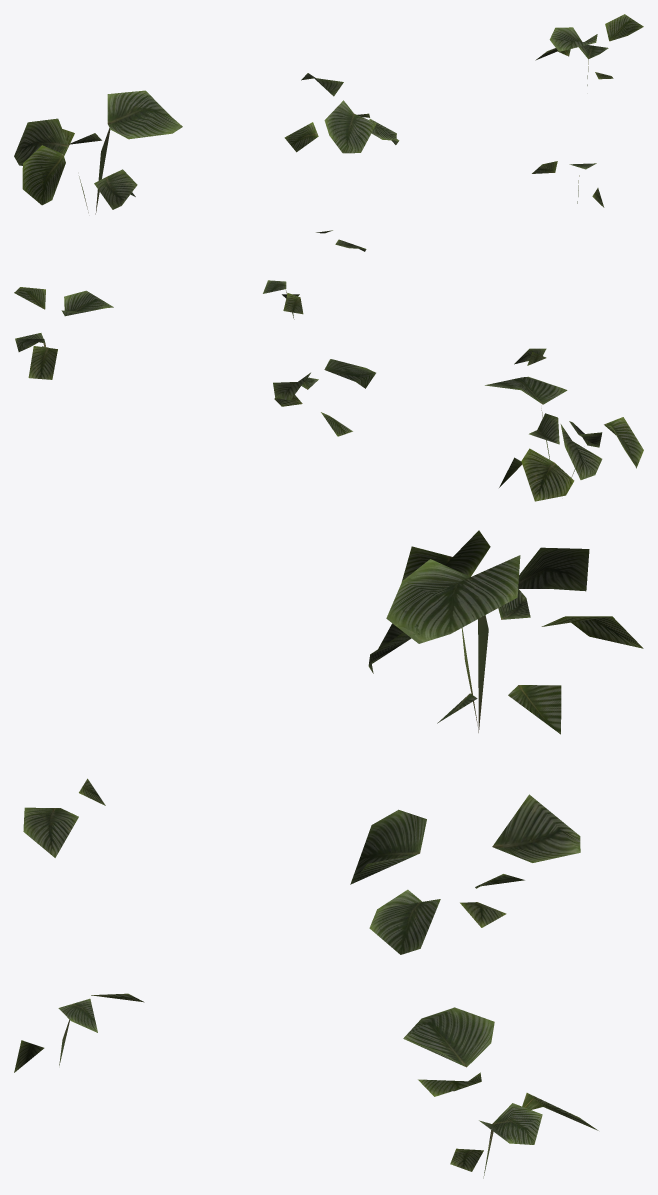
The model's file is calathea_orbifolia_01.glb.
3 renders of one model, top to bottom at view 1: azimuth 30°, elevation 25°; view 2: azimuth 150°, elevation 25°; view 3: azimuth 270°, elevation 25°, orthographic. The views are drawn at different scales.
Visible parts, largest first — view 1: calathea_orbifolia_01_a; view 2: calathea_orbifolia_01_a; view 3: calathea_orbifolia_01_a.
Part boxes in pixels (<box>): calathea_orbifolia_01_a: <box>14,14,643,251</box>; calathea_orbifolia_01_a: <box>14,280,643,501</box>; calathea_orbifolia_01_a: <box>14,530,643,1178</box>.
Bounding box in the file's own units: 2.48 × 0.4184 × 1.19.
1 material, 1 textured.
